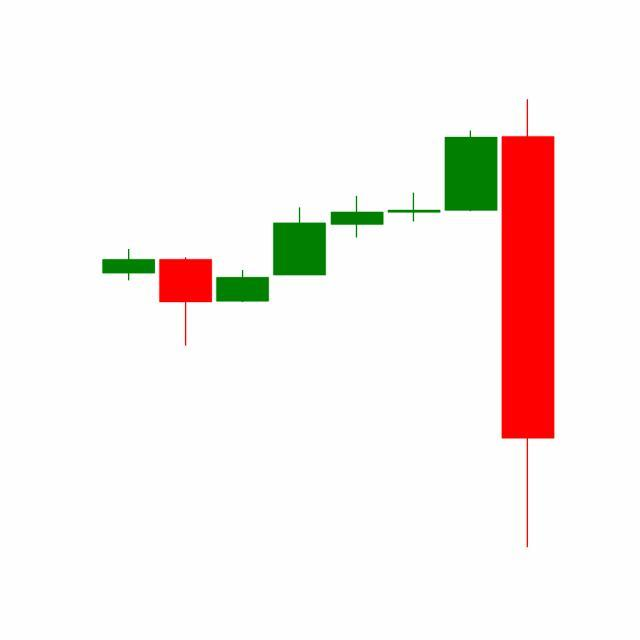Three Line Strike: (326, 99, 555, 549)
